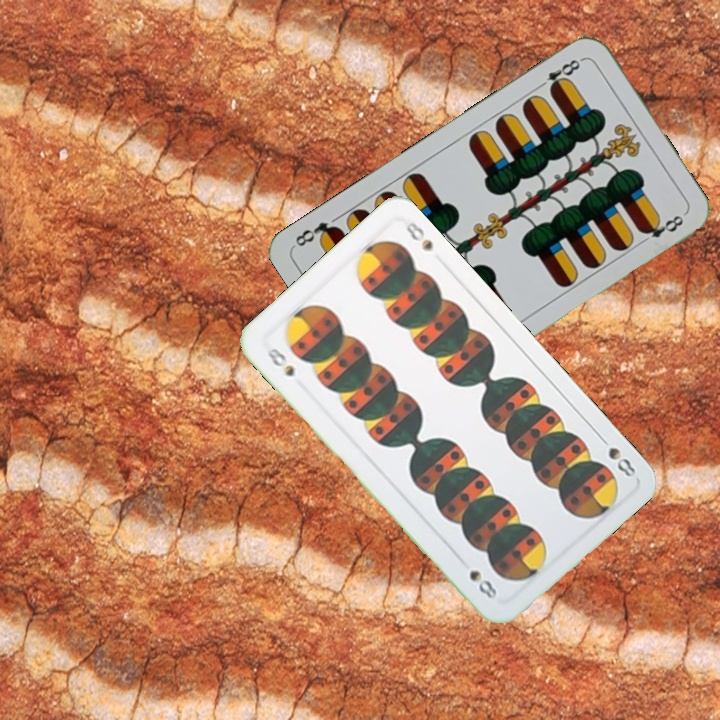E8: (533, 54, 586, 95)
S8: (594, 430, 639, 480), (262, 343, 297, 379)
